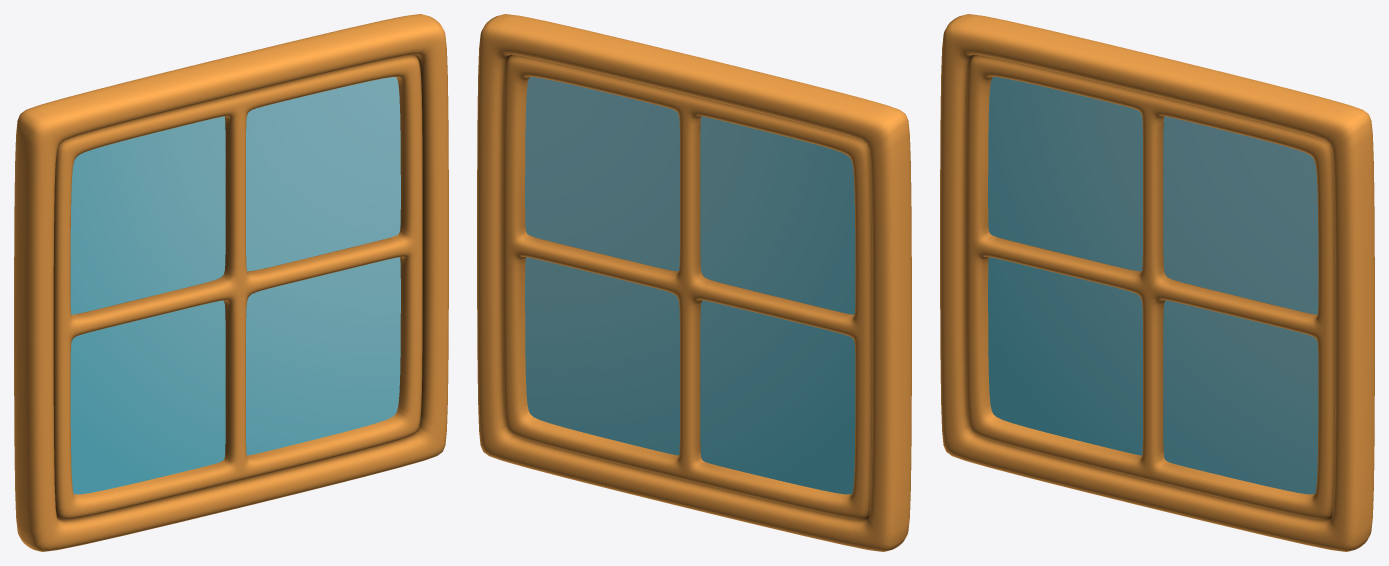
File: uploads_files_3760124_CW1a.fbx
3 views of the same model, side by side, from view 1: azimuth 30°, elevation 25°; view 2: azimuth 150°, elevation 25°; view 3: azimuth 330°, elevation 25° (orthographic).
Parts seen in each view (by area): view 1: CW1a; view 2: CW1a; view 3: CW1a.
Part boxes in pixels (bbox=[...]): CW1a: bbox=[14, 14, 448, 551]; CW1a: bbox=[477, 14, 911, 551]; CW1a: bbox=[940, 14, 1374, 551].
Bounding box in the file's own units: 99.8 × 99.8 × 9.93.
Materials: 1 (1 with a texture image).
